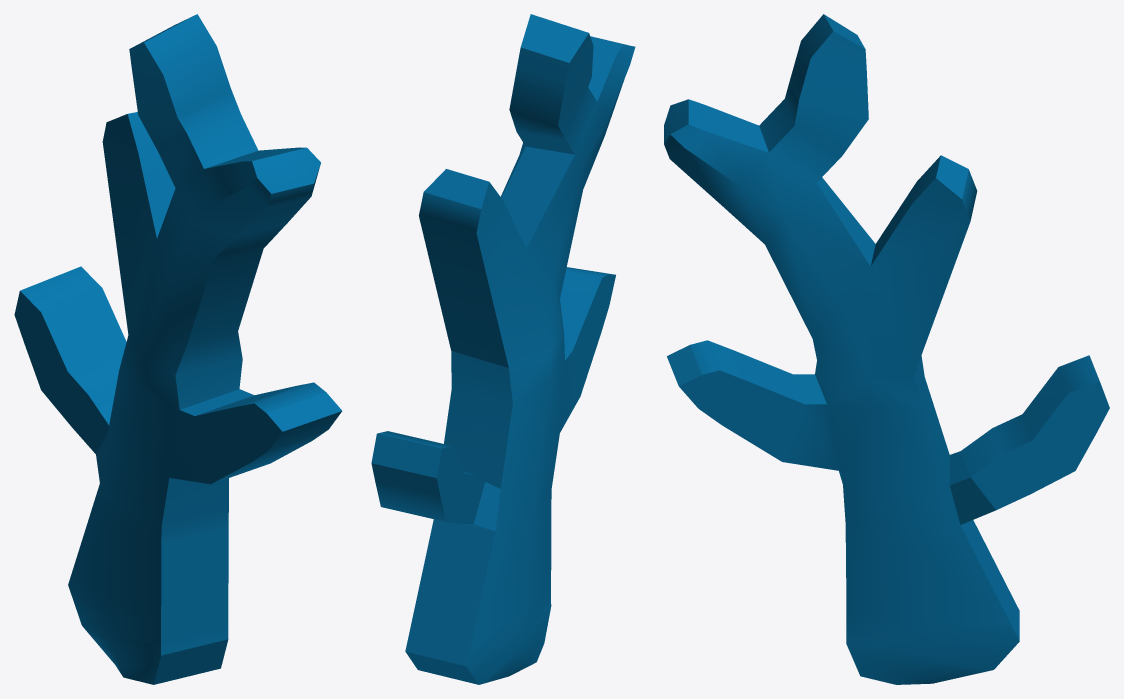
File: CoralAzul.fbx
3 views of the same model, side by side, from view 1: azimuth 30°, elevation 25°; view 2: azimuth 150°, elevation 25°; view 3: azimuth 270°, elevation 25° (orthographic). The views are drawn at different scales.
Parts seen in each view (by area): view 1: pCube3; view 2: pCube3; view 3: pCube3.
Part boxes in pixels (box(x1,y1,x2,y2)): pCube3: box(14, 14, 341, 684); pCube3: box(371, 14, 635, 684); pCube3: box(664, 14, 1109, 684).
Size of the model in its own units: 0.7068 by 3.81 by 2.43.
